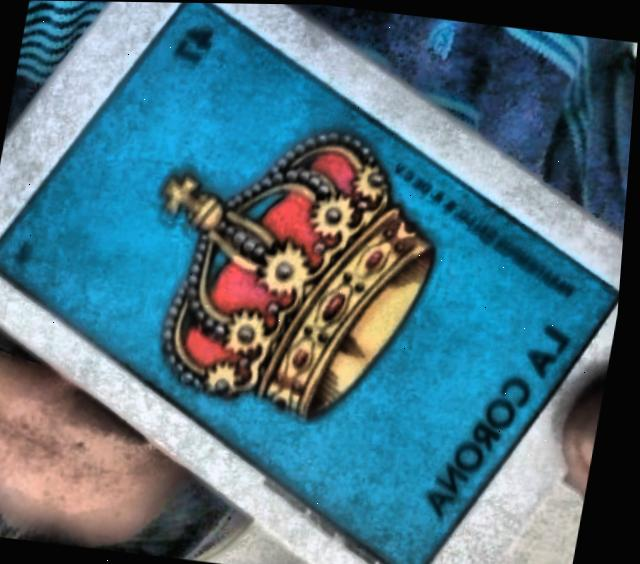La Corona: (0, 2, 623, 564)
